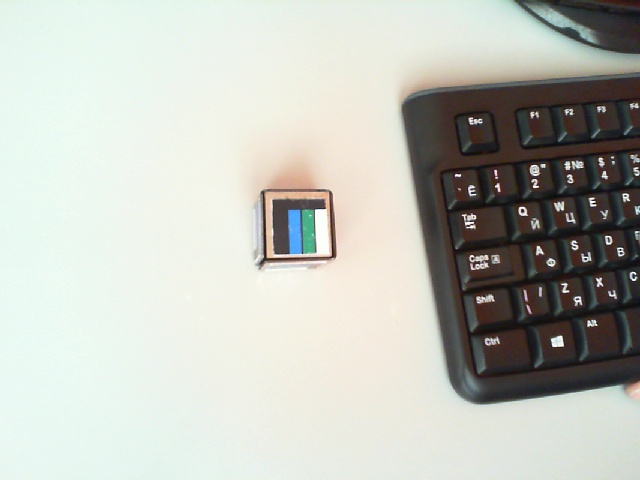square: (272, 198, 328, 252)
